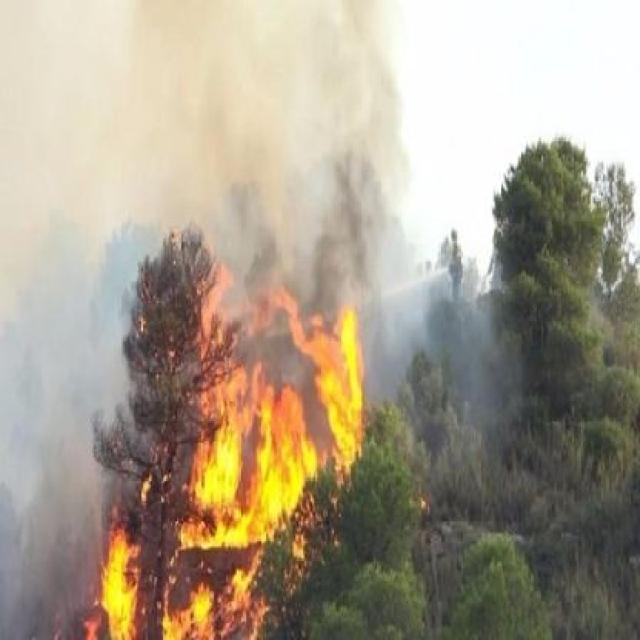Fire: (87, 230, 372, 640)
Smoke: (84, 4, 407, 266), (2, 2, 83, 640)
